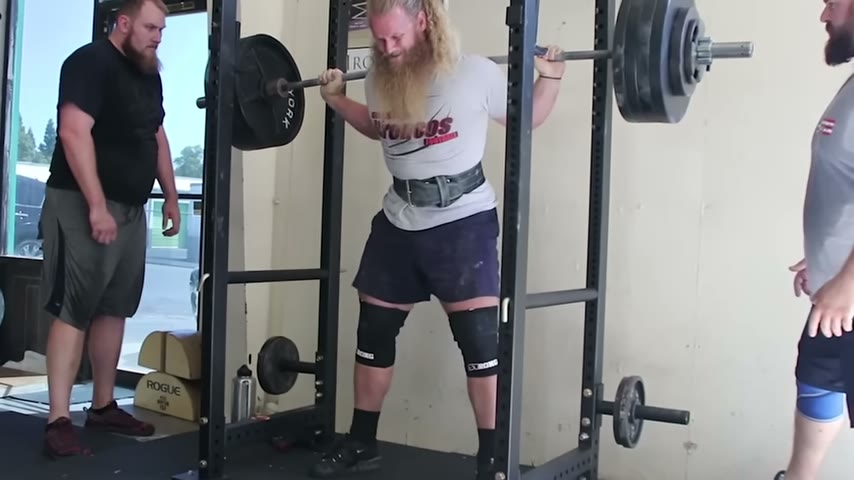barbell_plate_side: (679, 4, 754, 122), (617, 375, 694, 453)
